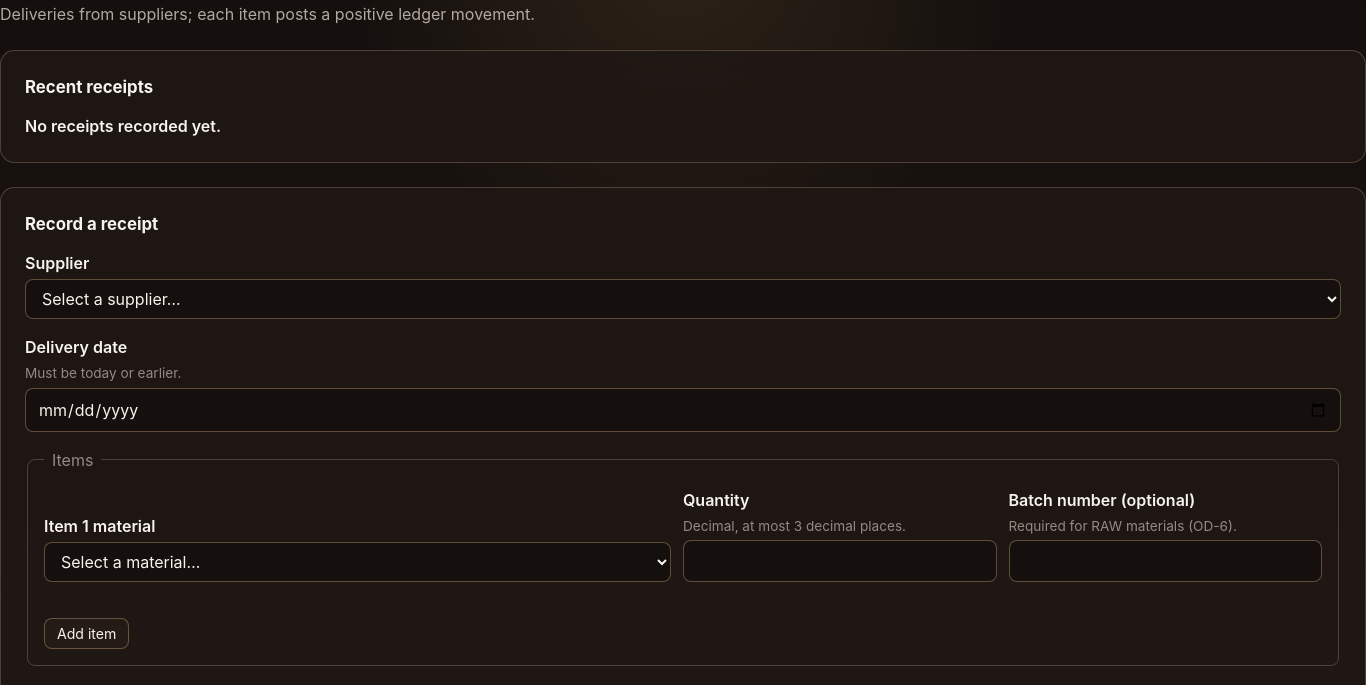
Scenario: ReceiptsPage › lists receipts and posts a receipt with batch metadata
The width and height of the screenshot is (1366, 685).
Select "Roastery Co" in the dropdown labelled "Supplier". click: point(683, 299)
box: [25, 279, 1341, 319]
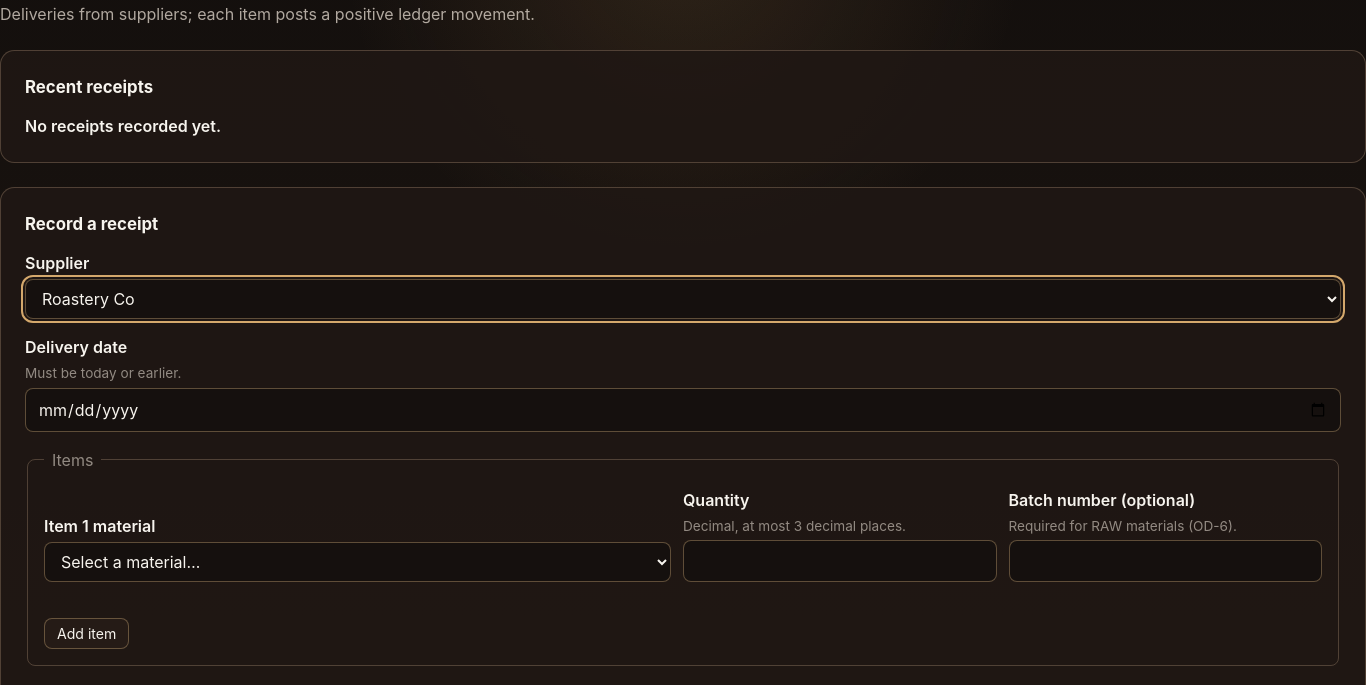
Type "2026-10-12" into the date field labelled "Delivery date". click: point(683, 410)
box: [25, 388, 1341, 432]
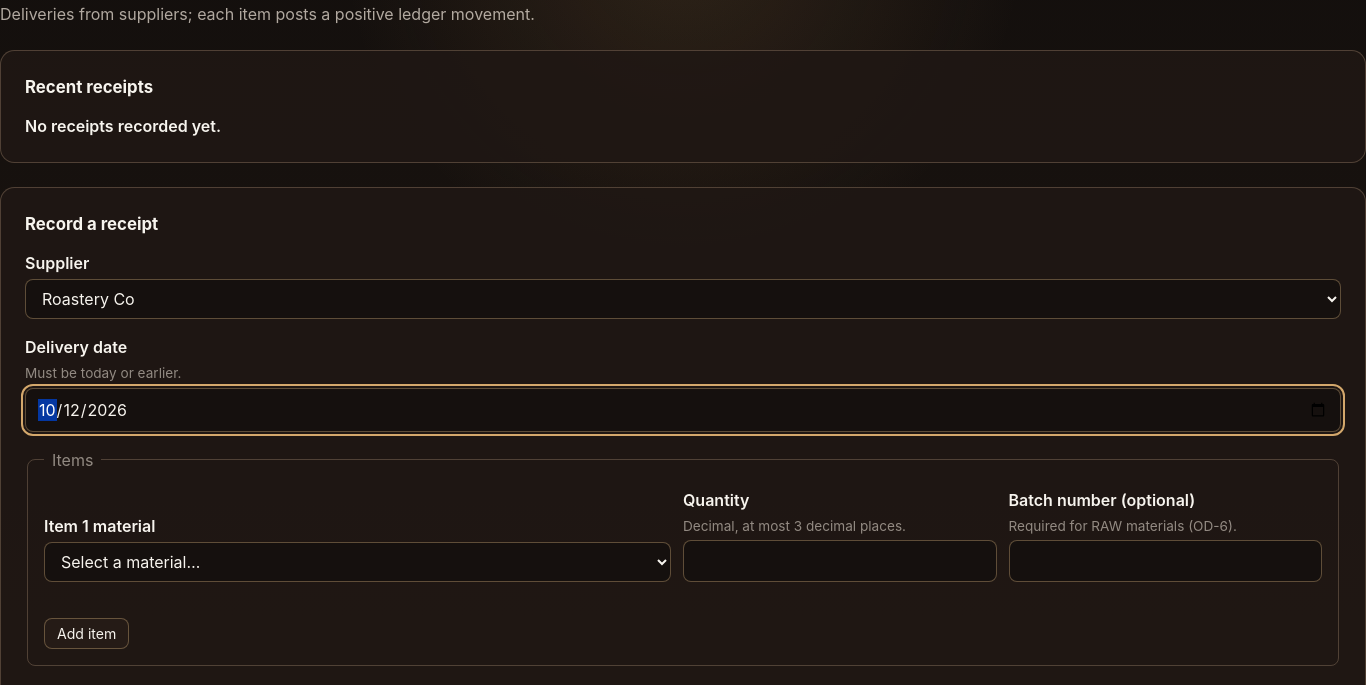
Select "Espresso beans (g)" in the dropdown labelled "Item 1 material". click: point(358, 562)
box: [44, 542, 671, 582]
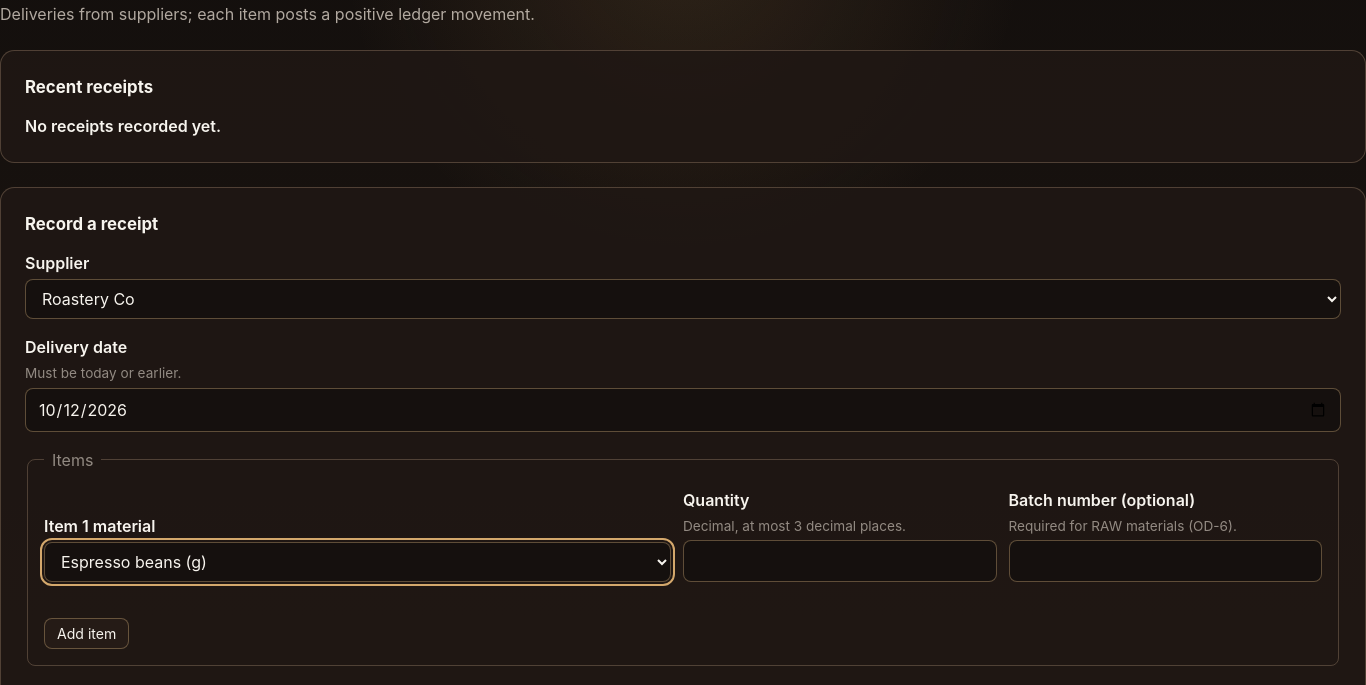
Type "12.500" into the field labelled "Quantity". click: point(840, 561)
box: [683, 540, 996, 582]
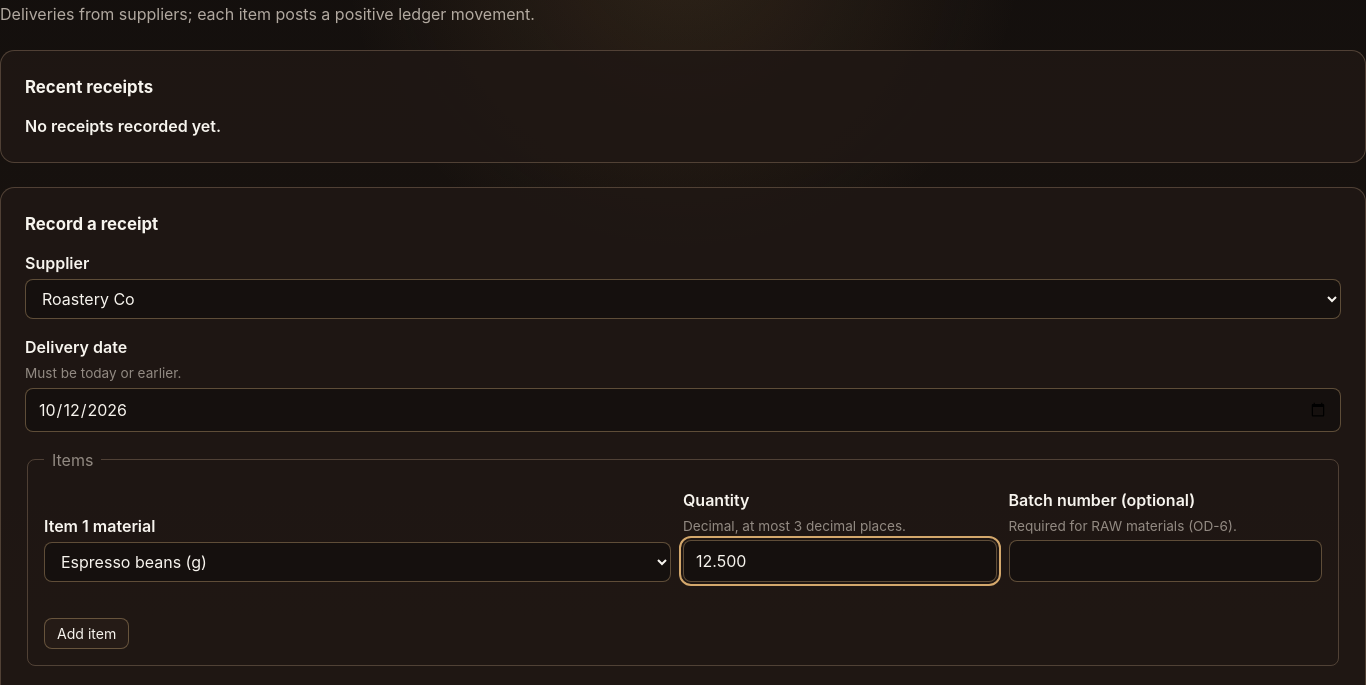
Type "RO-041" into the field labelled "Batch number (optional)". click: point(1165, 561)
box: [1008, 540, 1322, 582]
(page scrolled)
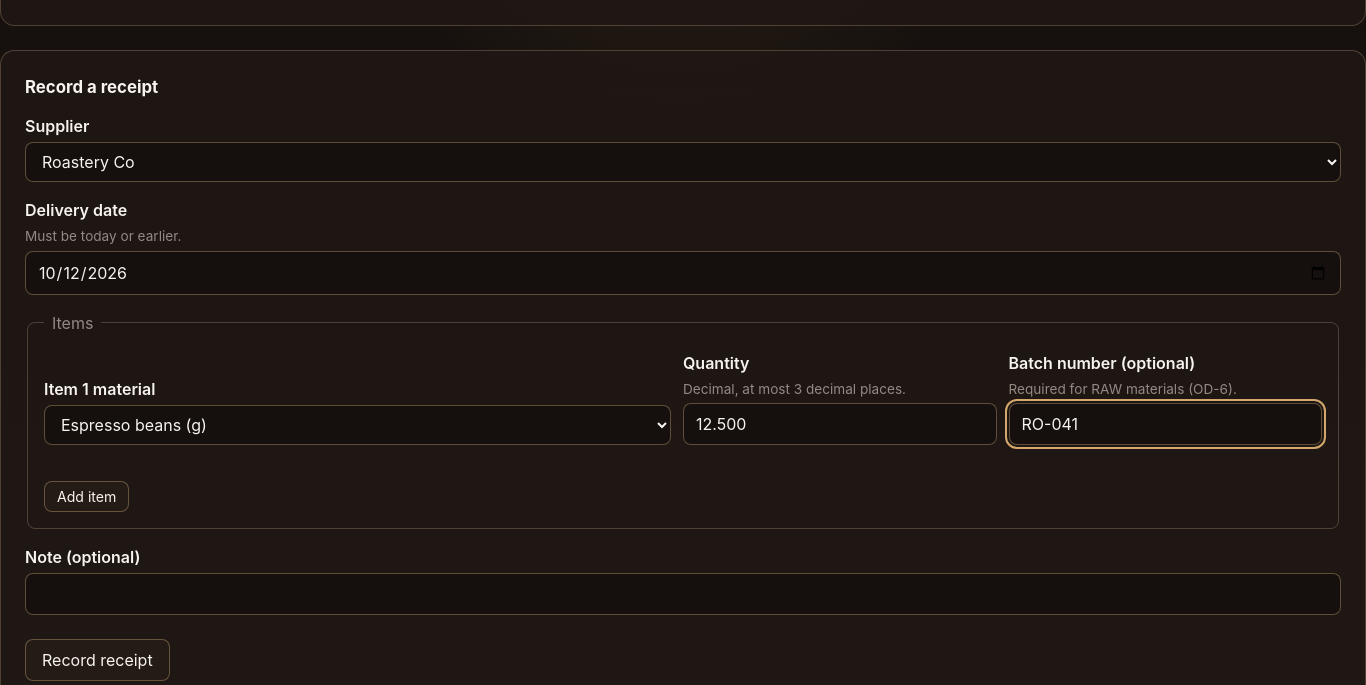
Click the button "Record receipt". click: point(97, 660)
box: [25, 639, 170, 681]
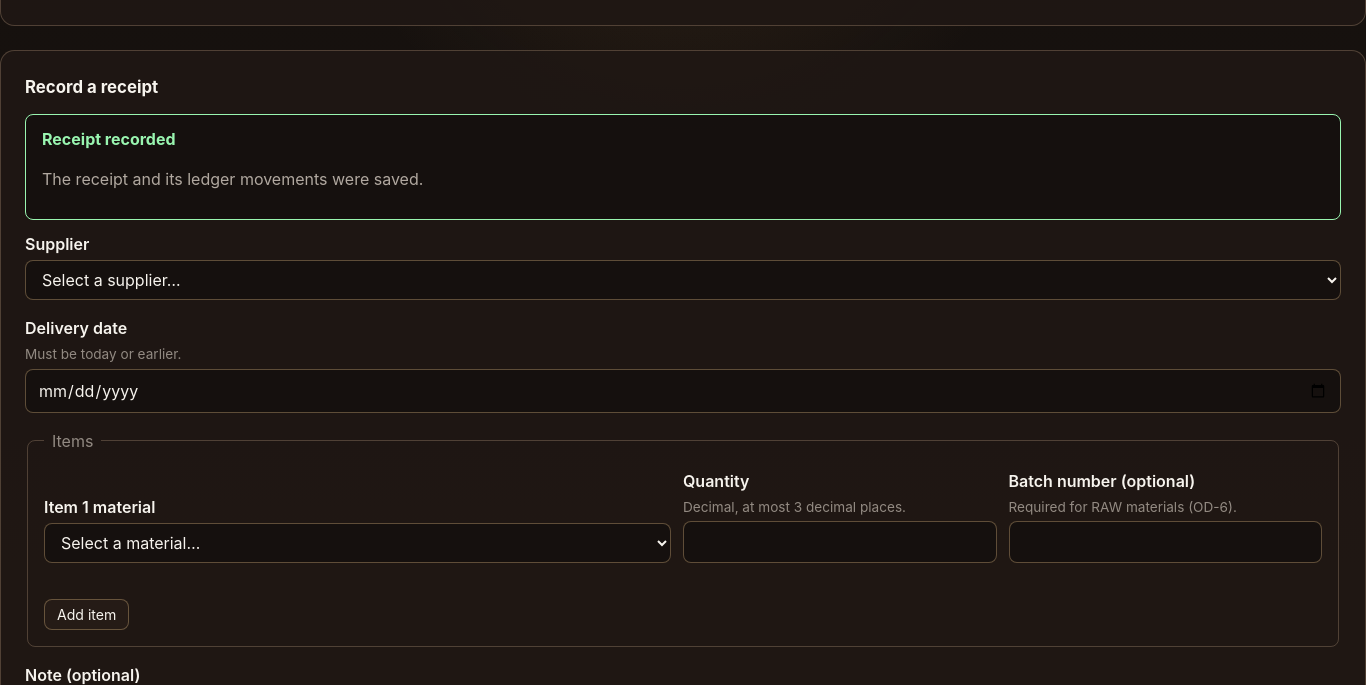
Expected: the text "Receipt recorded" is shown, [42, 129, 176, 149]
